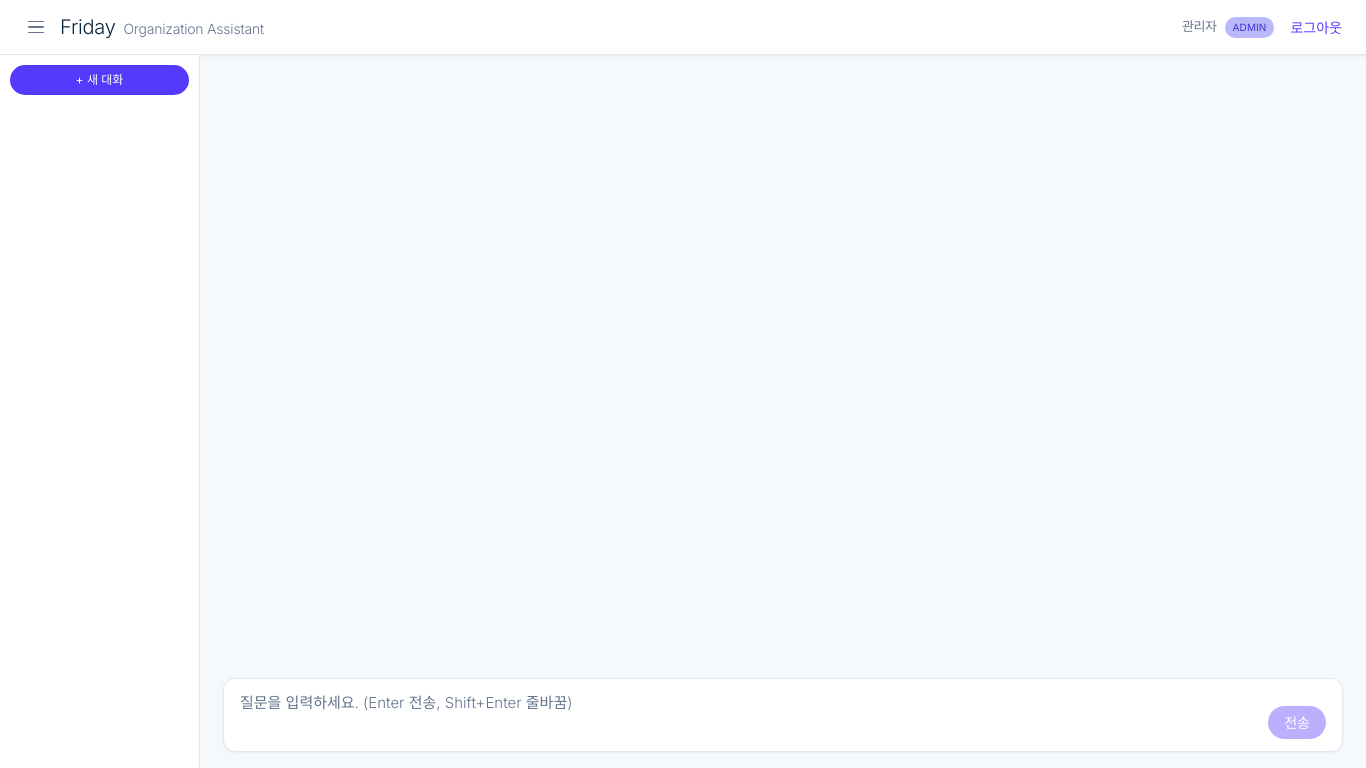
Test: ChatPage interrupt(JUSTIFY) 흐름 › interrupt 이벤트 수신 시 안내 카드를 렌더하고 사유 입력 모드로 전환한다
The width and height of the screenshot is (1366, 768).
Type "alice를 finance에 추가해줘" into the text box at (748, 715), box [240,691,1256,739]
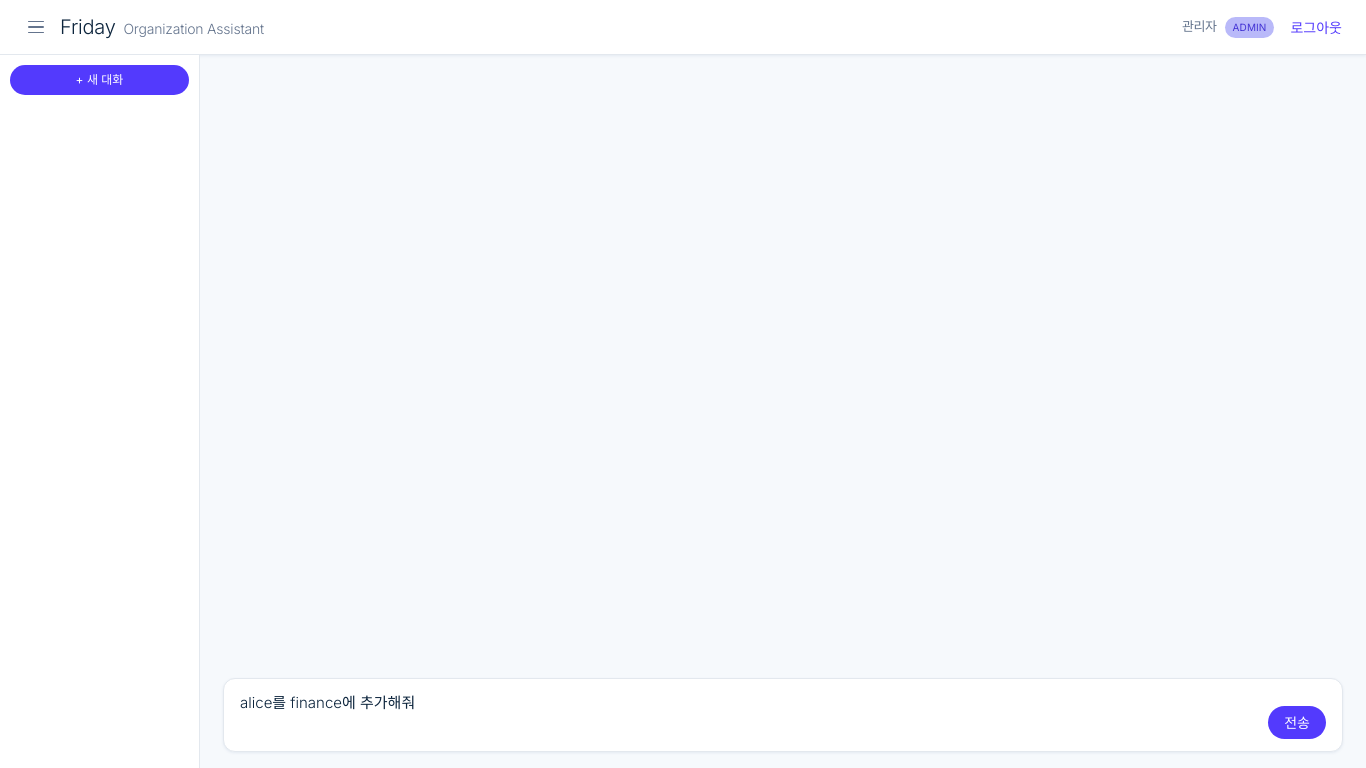
Click the button "전송" at (1297, 722), box [1268,706,1326,739]
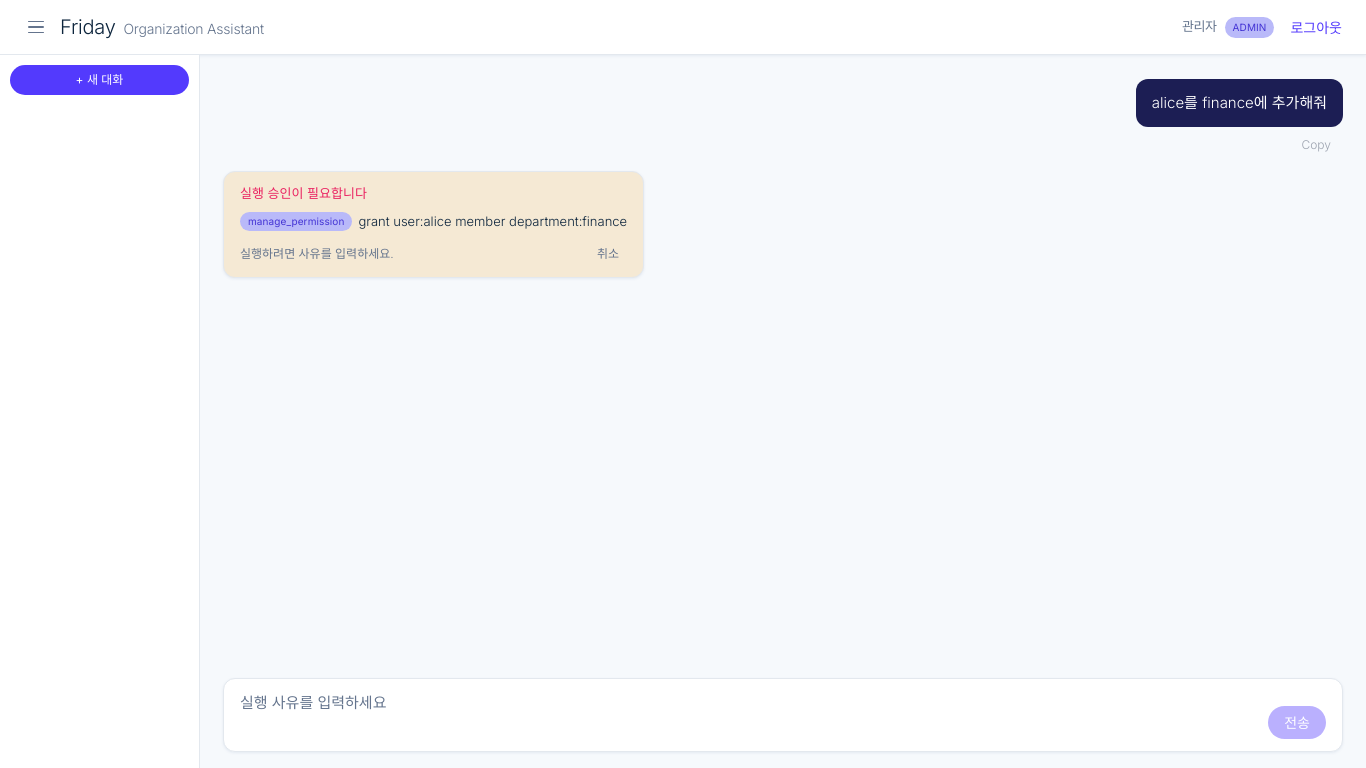
Expected: the text "grant user:alice member department:finance" is shown, [358,212,627,231]
Expected: the text box with placeholder "실행 사유를 입력하세요" is shown, [240,691,1256,739]
